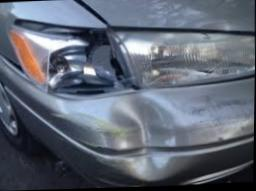Bumper: (82, 94, 183, 177)
Light: (3, 20, 130, 97)
